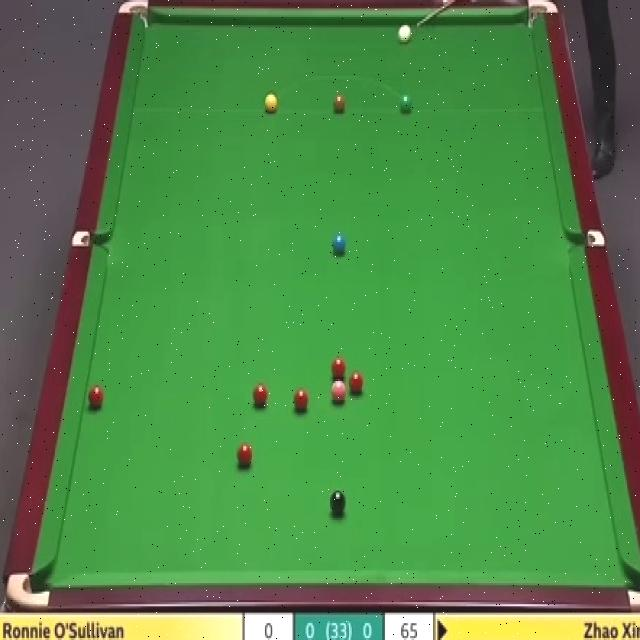black-ball: (329, 491, 347, 515)
blue-ball: (331, 232, 345, 255)
brown-ball: (332, 95, 344, 111)
green-ball: (400, 95, 411, 112)
pink-ball: (331, 378, 345, 405)
red-ball: (237, 441, 254, 468), (349, 370, 365, 398), (252, 383, 268, 406), (294, 387, 309, 411), (88, 387, 105, 408), (331, 357, 347, 377)
white-ball: (396, 22, 411, 43)
yellow-ball: (262, 93, 278, 114)
